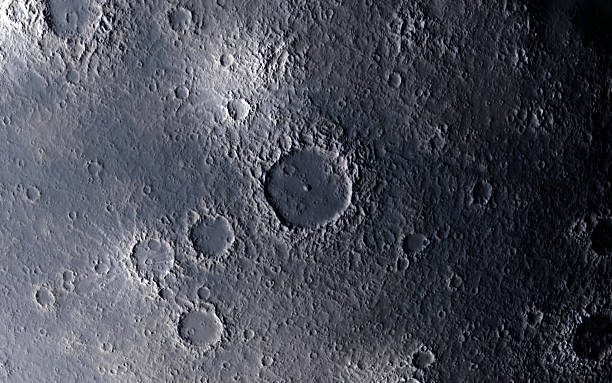crater: (258, 144, 356, 237), (176, 304, 227, 351), (190, 214, 239, 261), (129, 236, 178, 281)
